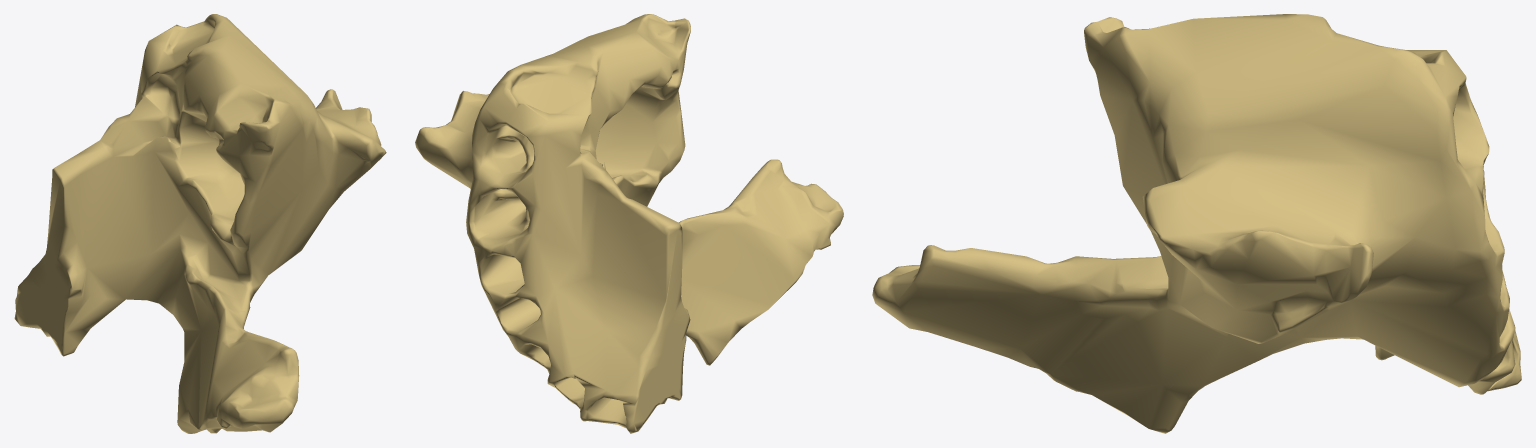
3 renders of one model, left to right at view 1: azimuth 30°, elevation 25°; view 2: azimuth 150°, elevation 25°; view 3: azimuth 270°, elevation 25°, orthographic. The views are drawn at different scales.
Visible parts, largest first — view 1: 左侧上颌骨; view 2: 左侧上颌骨; view 3: 左侧上颌骨.
Part boxes in pixels (x1,y1,x2,y2): 左侧上颌骨: (14, 14, 386, 433); 左侧上颌骨: (415, 14, 843, 433); 左侧上颌骨: (872, 14, 1521, 433).
Bounding box in the file's own units: 0.0681 × 0.0793 × 0.0999.
